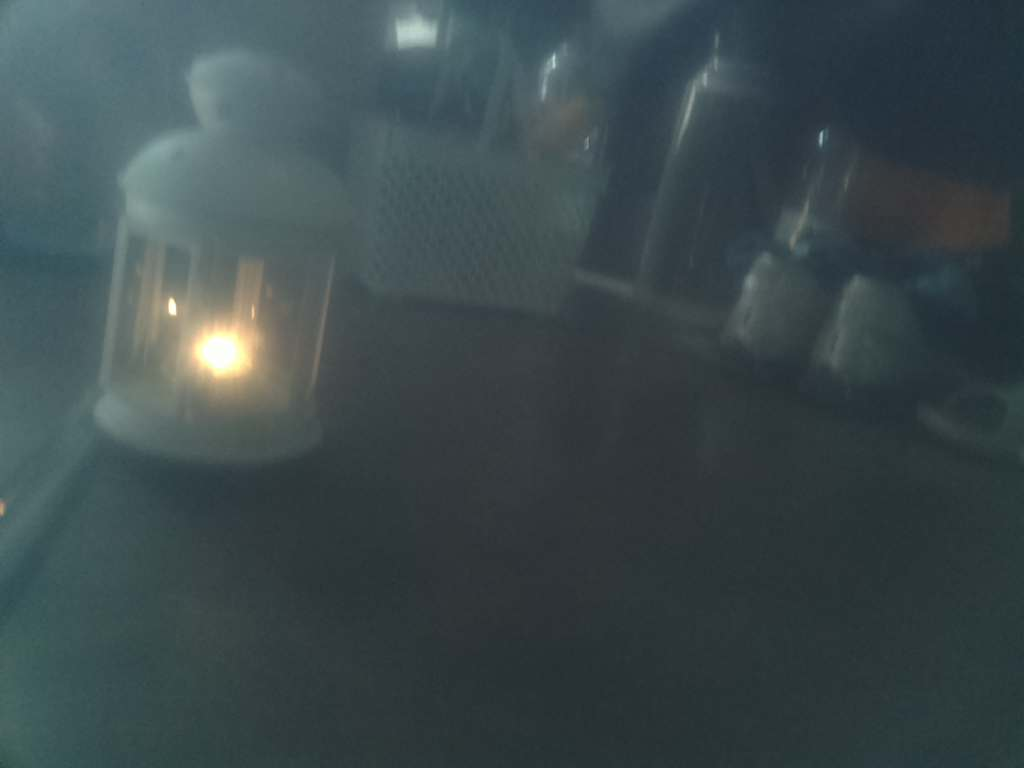fire: (181, 311, 270, 389)
